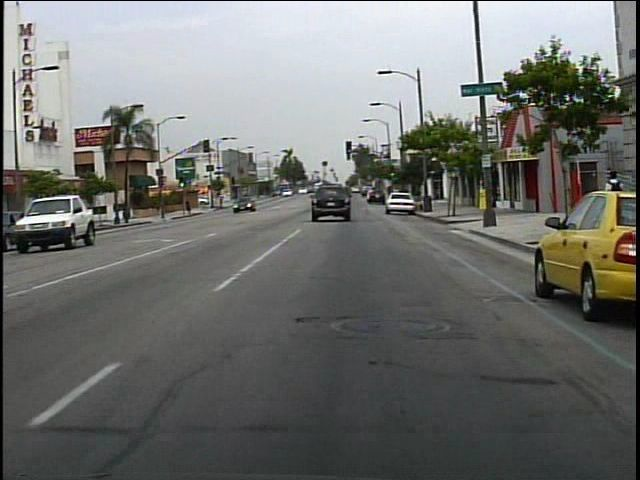person: (599, 162, 626, 209)
